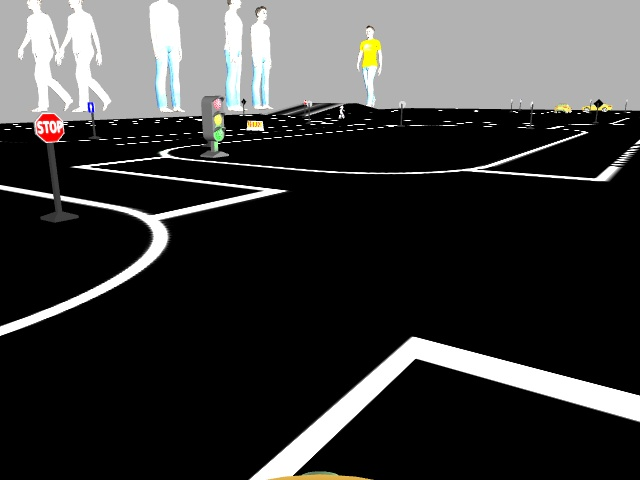ClosedRoadStand: (243, 120, 264, 131)
OneWay: (85, 102, 94, 113)
Stop: (30, 112, 64, 141)
TrafficLight: (202, 95, 226, 142)
